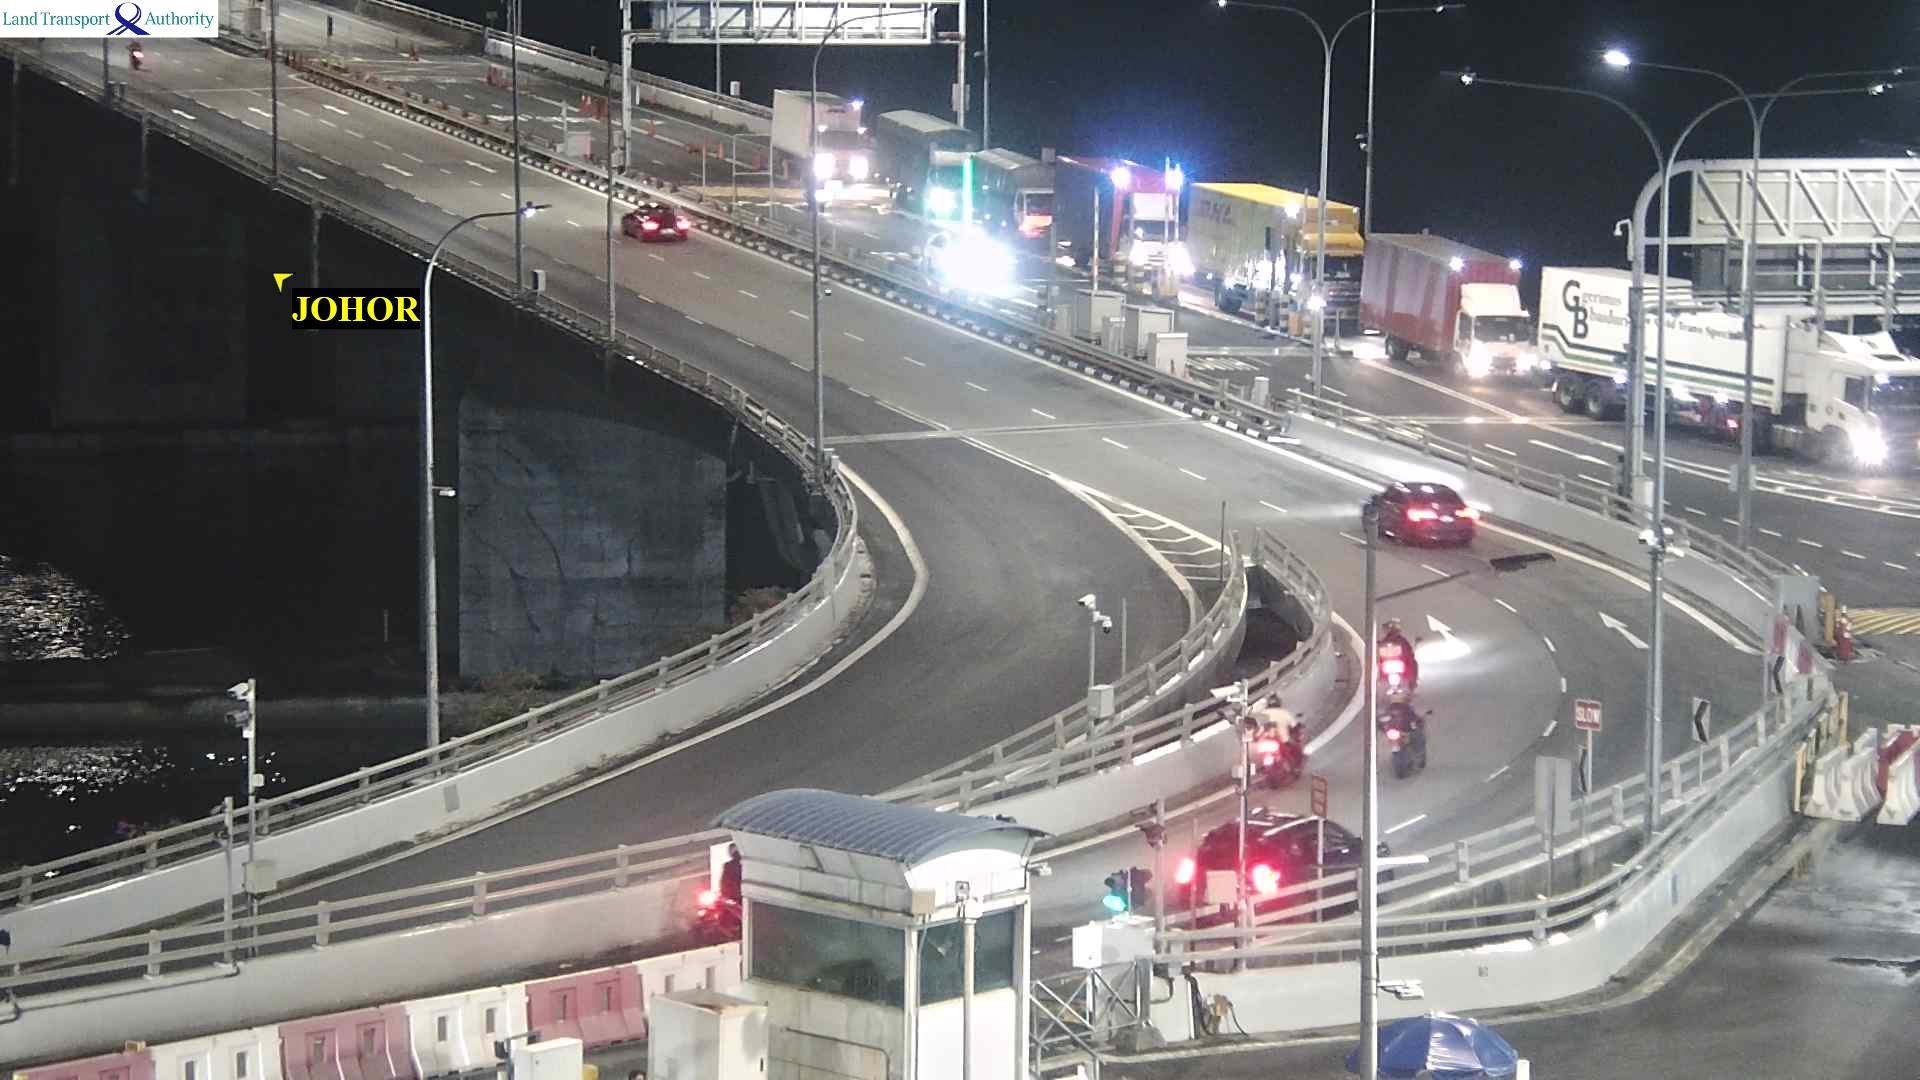vehicle-secondlink-johor: (1179, 814, 1395, 919), (1367, 484, 1486, 553), (1253, 684, 1302, 783), (1381, 698, 1436, 770), (620, 194, 687, 247), (702, 847, 738, 942), (1378, 620, 1416, 688), (125, 40, 144, 69)
vehicle-secondlink-singapore: (1544, 265, 1920, 492), (1191, 182, 1360, 335), (1369, 232, 1527, 393), (1058, 156, 1176, 282), (880, 111, 976, 223), (775, 90, 866, 185), (978, 146, 1050, 239)
